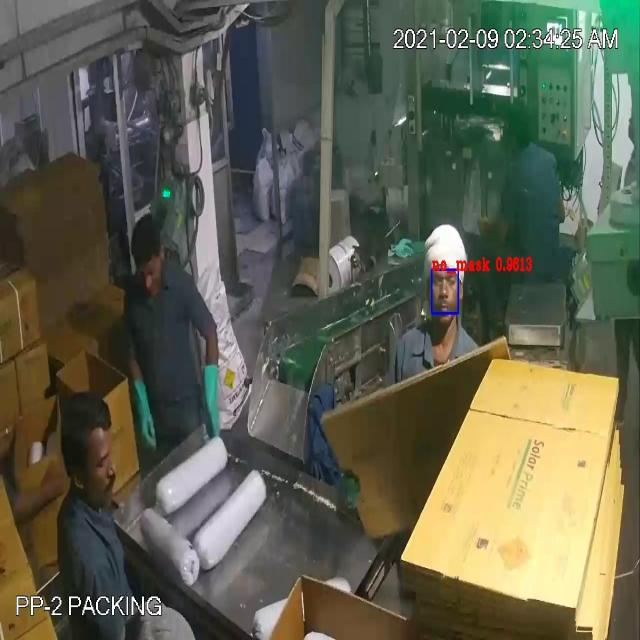gloves: (188, 347, 234, 457), (126, 363, 164, 462)
no-gloves: (9, 439, 68, 527)
